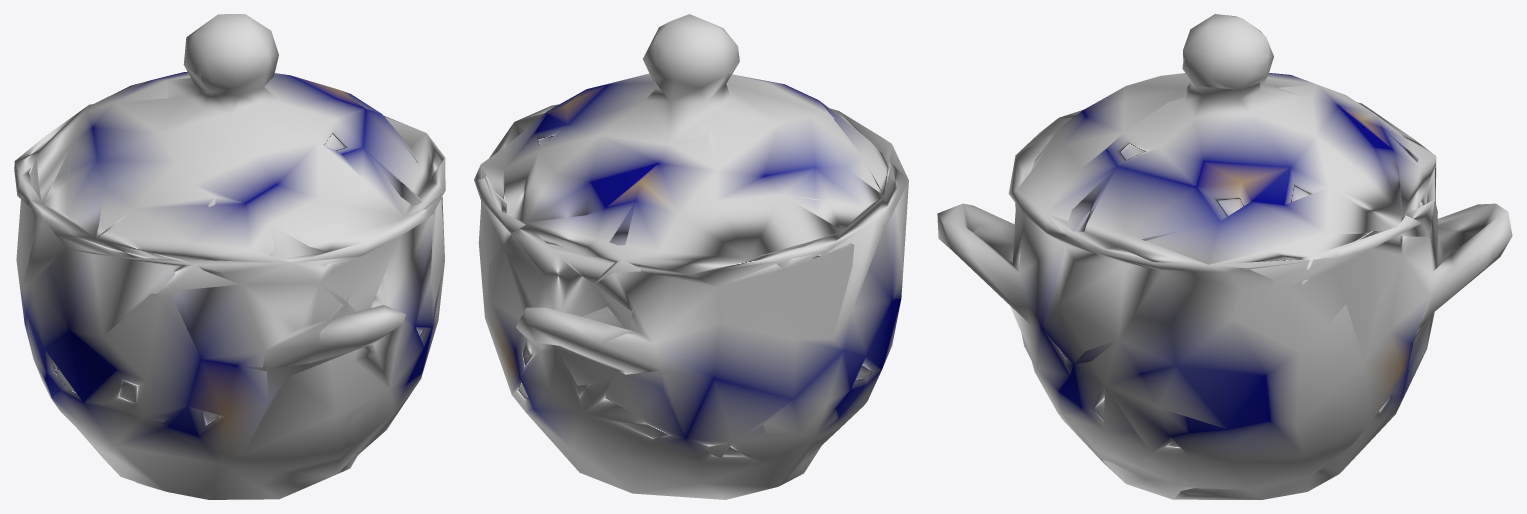
The model's file is gen3d-sugar-bowl-lod1.glb.
3 renders of one model, left to right at view 1: azimuth 30°, elevation 25°; view 2: azimuth 150°, elevation 25°; view 3: azimuth 270°, elevation 25°, orthographic.
Visible parts, largest first — view 1: part_0; view 2: part_0; view 3: part_0.
Part boxes in pixels (<box>): part_0: <box>14,14,445,499</box>; part_0: <box>474,14,908,499</box>; part_0: <box>937,14,1512,499</box>.
Bounding box in the file's own units: 0.9072 × 0.9938 × 1.2.
